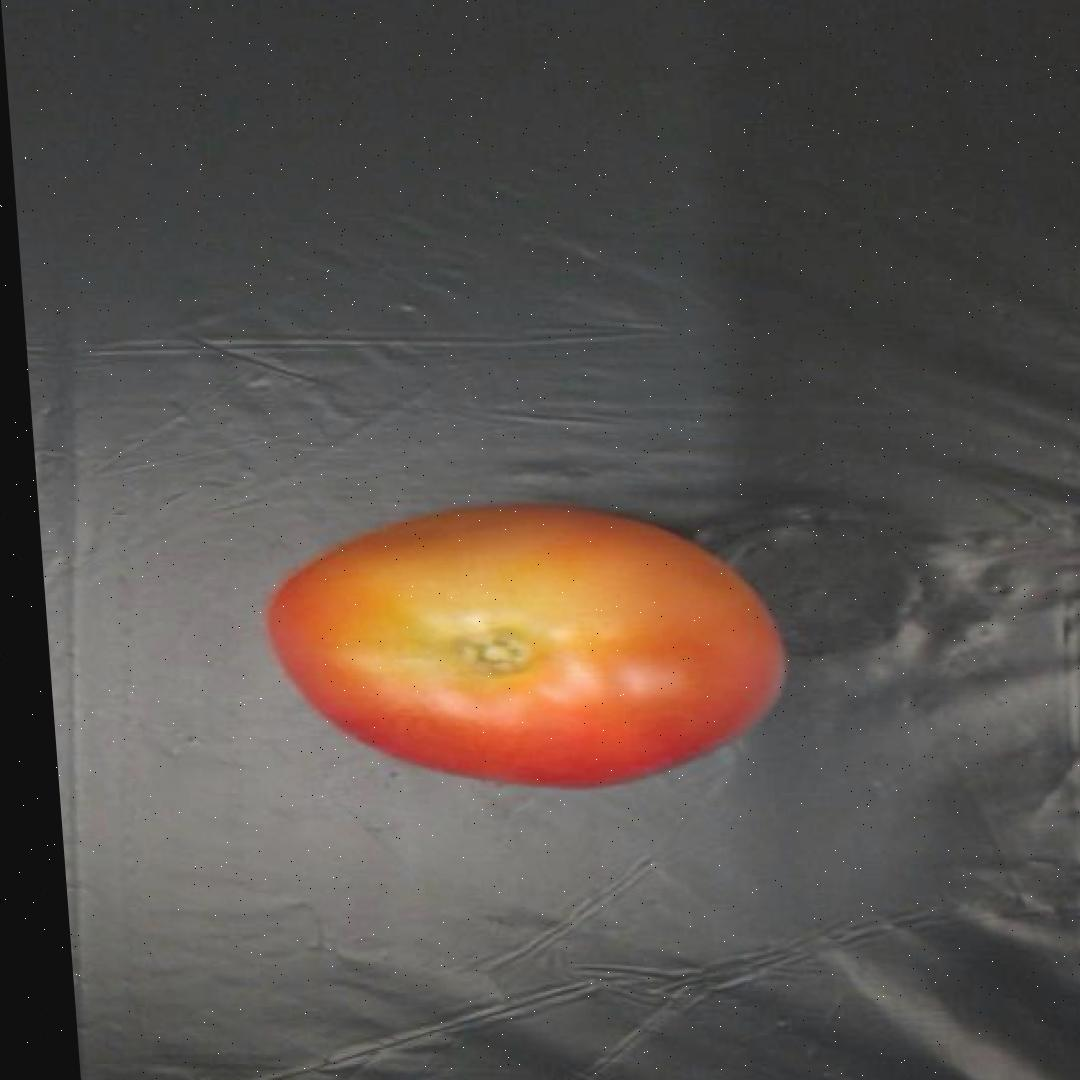setengah_matang: (246, 504, 803, 794)
